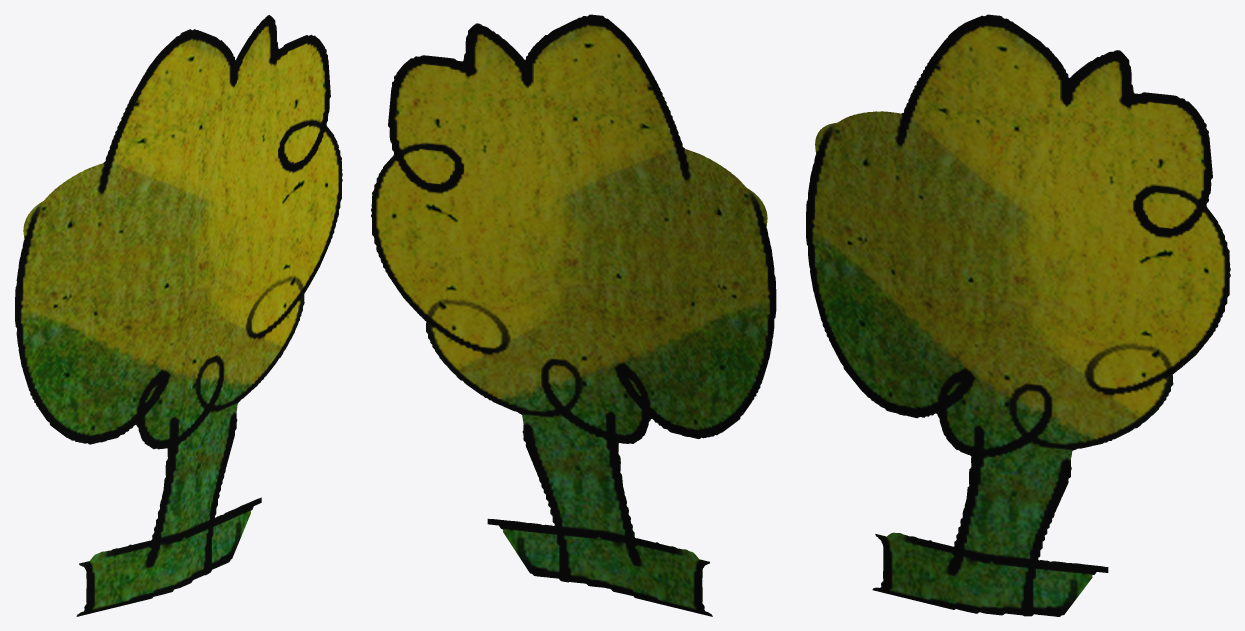
File: 01_plant_02.fbx
The picture shows the model from 3 angles, left to right: view 1: azimuth 30°, elevation 25°; view 2: azimuth 150°, elevation 25°; view 3: azimuth 330°, elevation 25°; orthographic projection. The views are drawn at different scales.
Parts seen in each view (by area): view 1: 植物_02; view 2: 植物_02; view 3: 植物_02.
Boxes of the visible parts, left/top/right/bottom form: 植物_02: left=15, top=15, right=342, bottom=616; 植物_02: left=371, top=14, right=776, bottom=616; 植物_02: left=806, top=14, right=1230, bottom=616.
Bounding box in the file's own units: 68.08 × 101 × 10.66.
Materials: 1 (1 with a texture image).
